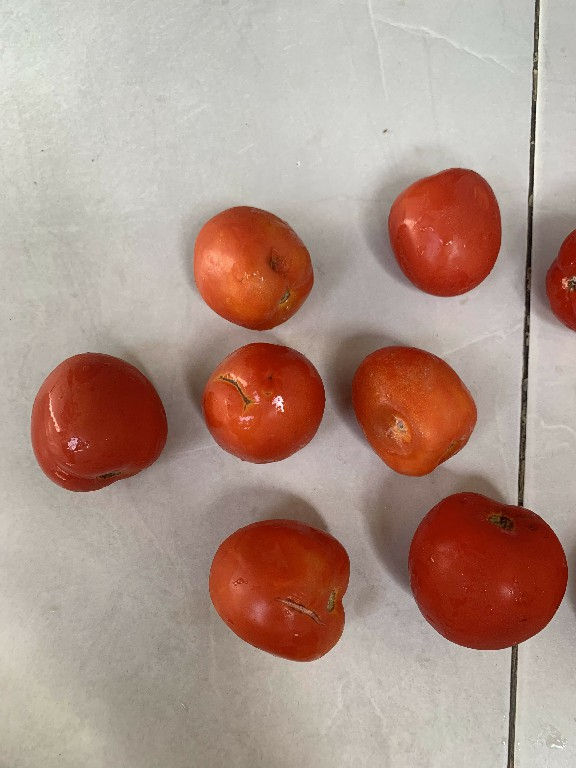NG: (205, 515, 361, 670), (351, 332, 489, 484), (182, 202, 317, 333), (202, 337, 328, 475)
OK: (408, 485, 575, 654), (20, 347, 177, 498), (376, 160, 508, 301)
